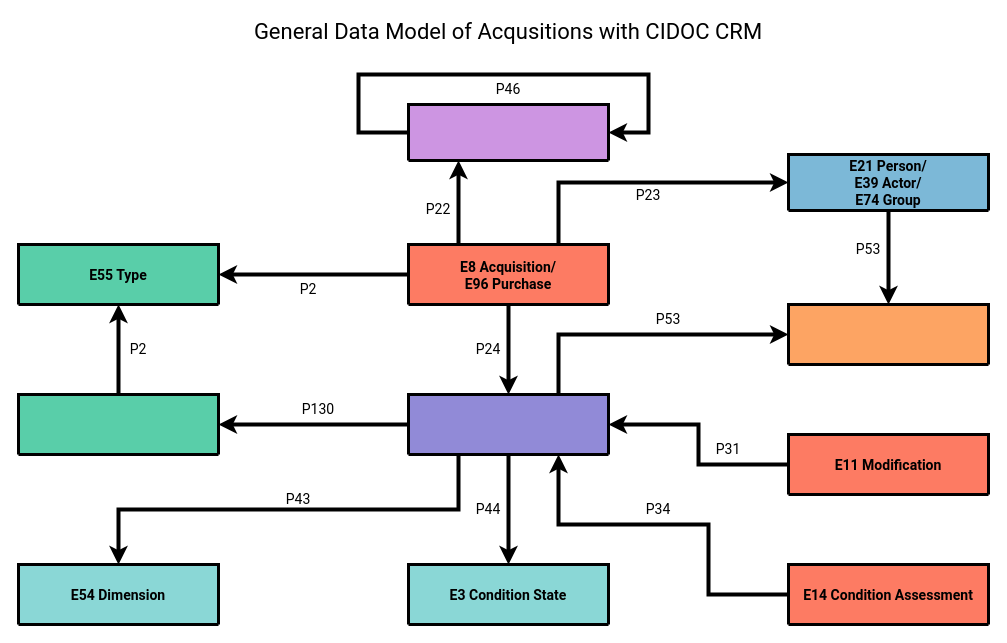
The diagram is 1007 pixels wide and 643 high, and some of its shapes have lost their labels. Here are the shapes that lost their labels. From the top down, the box of each, then its label:
(406, 102, 610, 162): E78 Curated Holding
(786, 302, 990, 366): E53 Place
(16, 392, 220, 456): E28 Conceptual Object
(406, 392, 610, 456): E19 Physical Object/ E20 Biological Object
